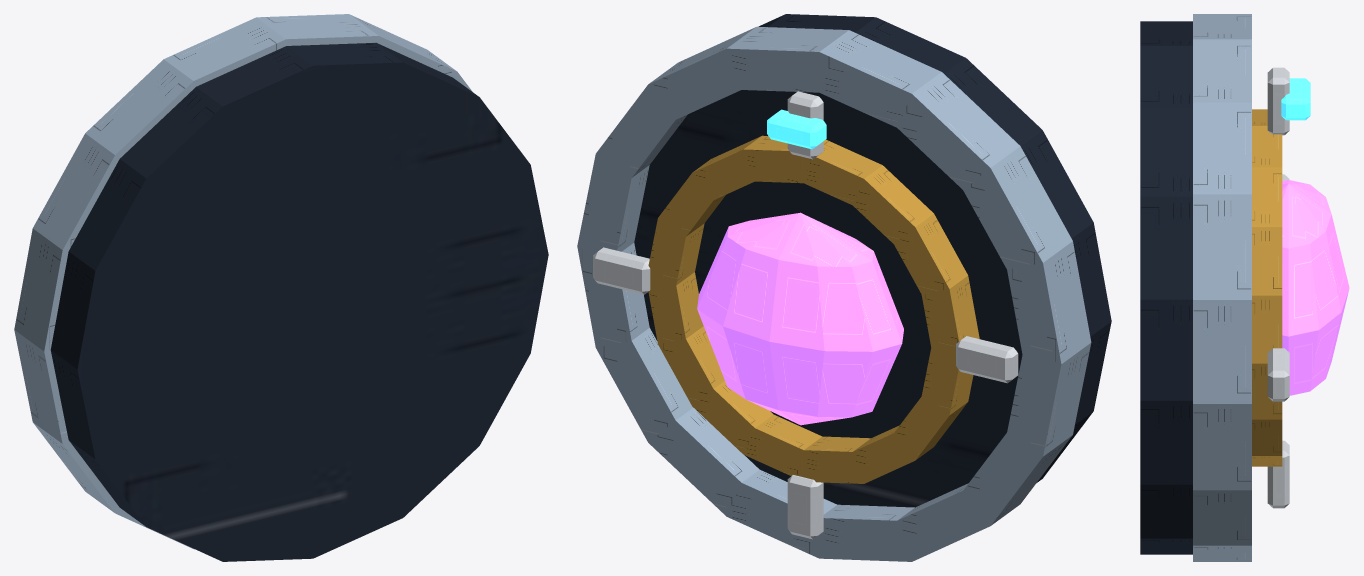
File: recon.glb
The picture shows the model from 3 angles, left to right: view 1: azimuth 30°, elevation 25°; view 2: azimuth 150°, elevation 25°; view 3: azimuth 270°, elevation 25°; orthographic projection.
Parts seen in each view (by area): view 1: buckler; view 2: buckler, lens; view 3: buckler, lens.
Boxes of the visible parts, left/top/right/bottom form: buckler: left=14, top=14, right=548, bottom=561; buckler: left=577, top=14, right=1111, bottom=561; lens: left=697, top=212, right=903, bottom=425; buckler: left=1140, top=14, right=1310, bottom=561; lens: left=1282, top=180, right=1349, bottom=395.
Bounding box in the file's own units: 0.224 × 0.224 × 0.0854.
Materials: 6 (6 with a texture image).
